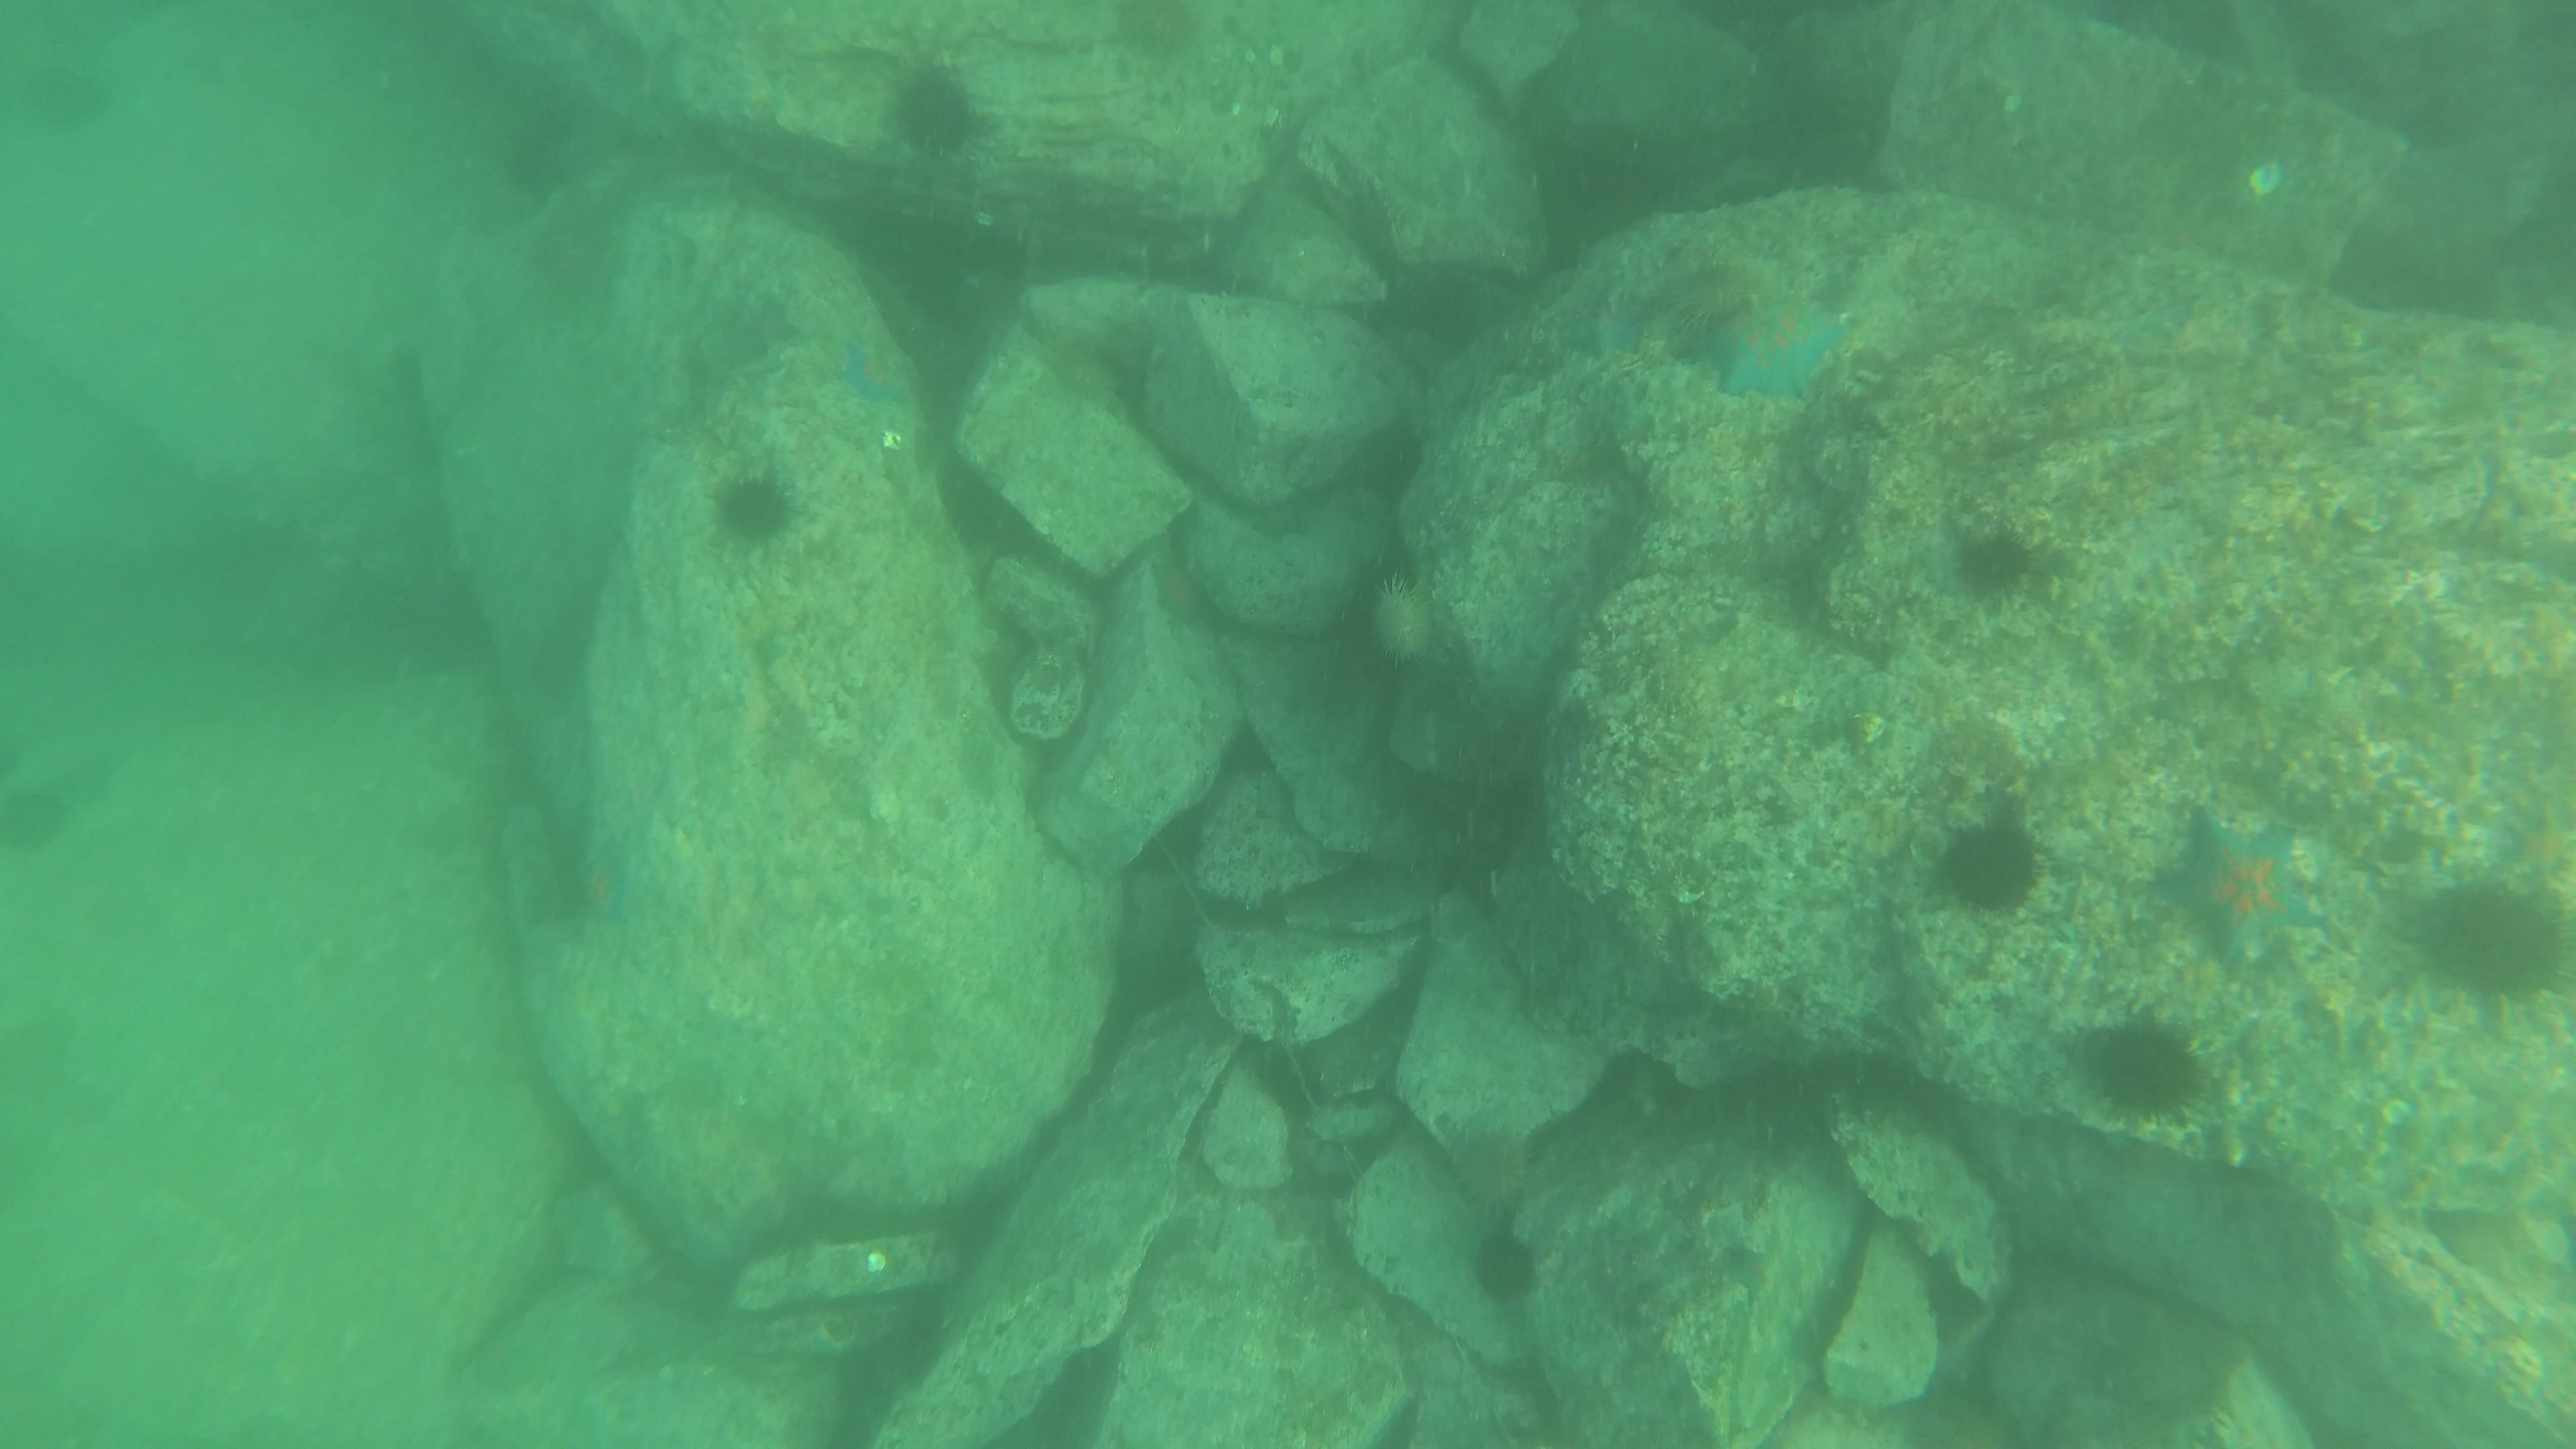echinus: (2427, 867, 2553, 1017), (2072, 1001, 2210, 1120), (879, 64, 982, 163), (1948, 809, 2029, 925), (1453, 1123, 1550, 1208), (1674, 249, 1780, 320), (1366, 586, 1456, 653), (713, 481, 803, 540), (1472, 1223, 1537, 1300), (1966, 538, 2052, 596)
starfish: (2155, 816, 2321, 962), (1714, 306, 1852, 402), (563, 839, 633, 936), (821, 338, 915, 403)
